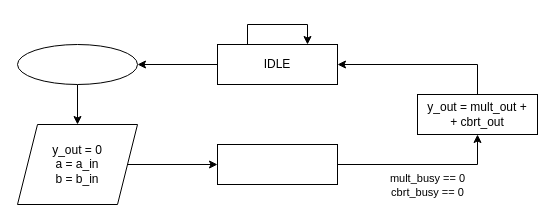
The diagram is 555 pixels wide and 222 high, and some of its shapes have lost their labels. Here are the shapes that lost their labels. From the top down, the centre of each, then its label:
At pixel 77 64: "Готовы ко вводу".
At pixel 277 164: "mult_out = a * a cbrt_out = cbrt(b)".
